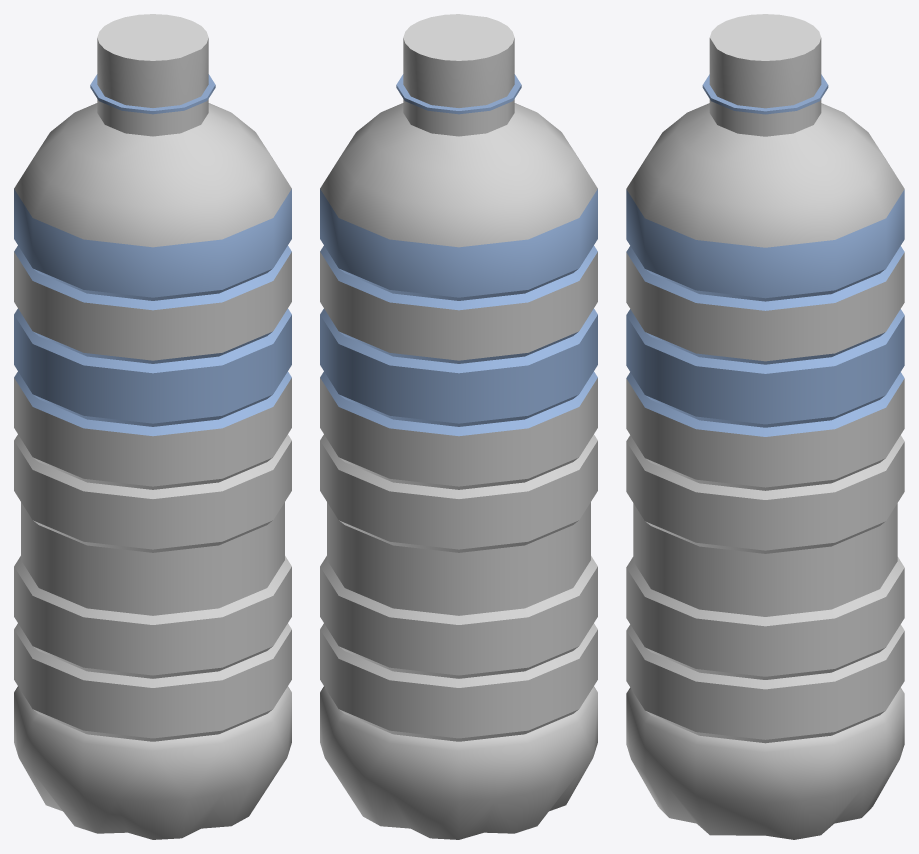
The model's file is water_bottle_reduced.dae.
The picture shows the model from 3 angles, left to right: view 1: azimuth 30°, elevation 25°; view 2: azimuth 150°, elevation 25°; view 3: azimuth 270°, elevation 25°; orthographic projection.
Parts seen in each view (by area): view 1: SketchUp_012; view 2: SketchUp_012; view 3: SketchUp_012.
Boxes of the visible parts, left/top/right/bottom form: SketchUp_012: left=14, top=14, right=291, bottom=839; SketchUp_012: left=320, top=14, right=597, bottom=839; SketchUp_012: left=626, top=14, right=904, bottom=839.
Size of the model in its own units: 0.0635 by 0.0635 by 0.1905.
